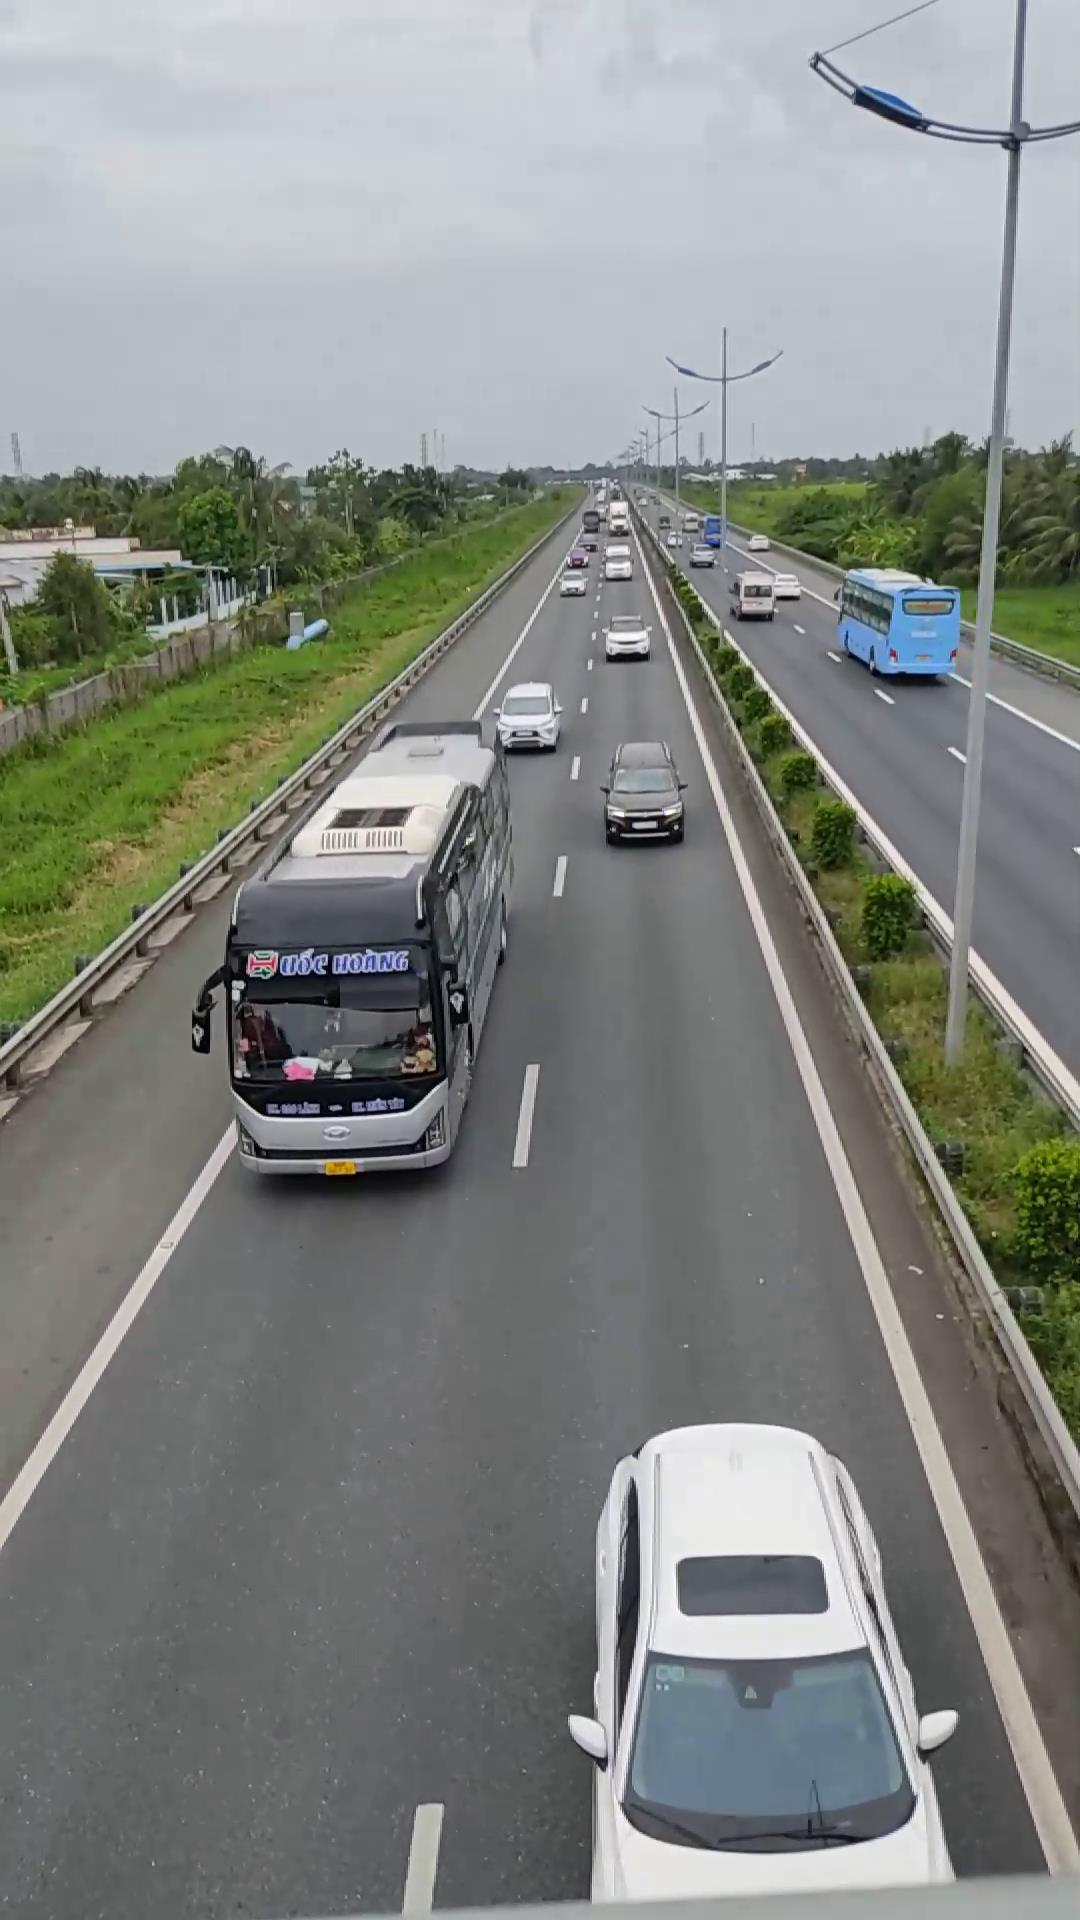bus: (196, 728, 517, 1178)
car: (572, 1420, 956, 1895), (597, 741, 688, 844), (487, 680, 563, 750)
